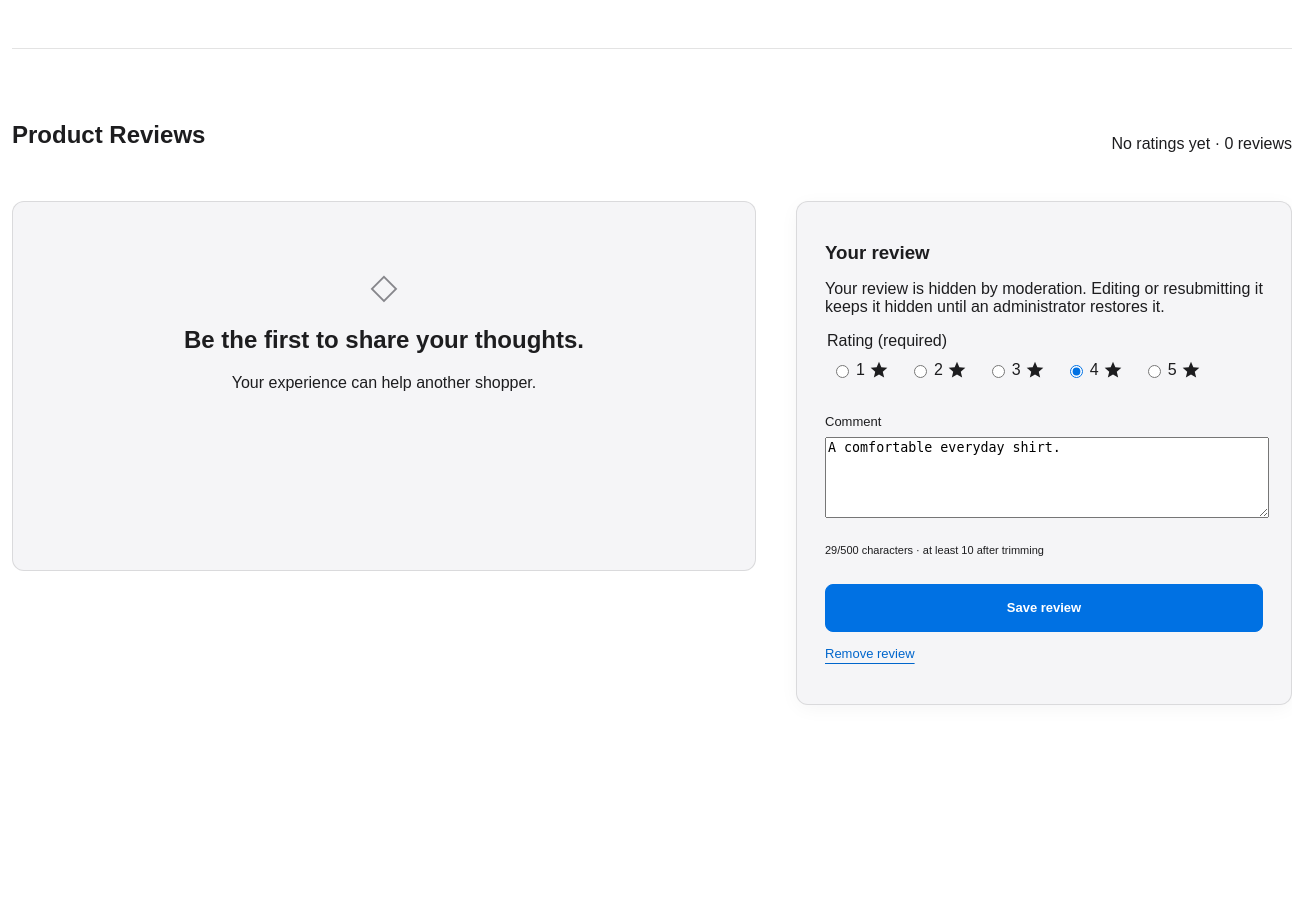
hidden own reviews explain moderation and a failed save preserves the entered comment
Replace the text in the text box labelled "Comment" with "Keep this draft after a failure." at coordinates (1047, 477), box [825,437,1269,518]
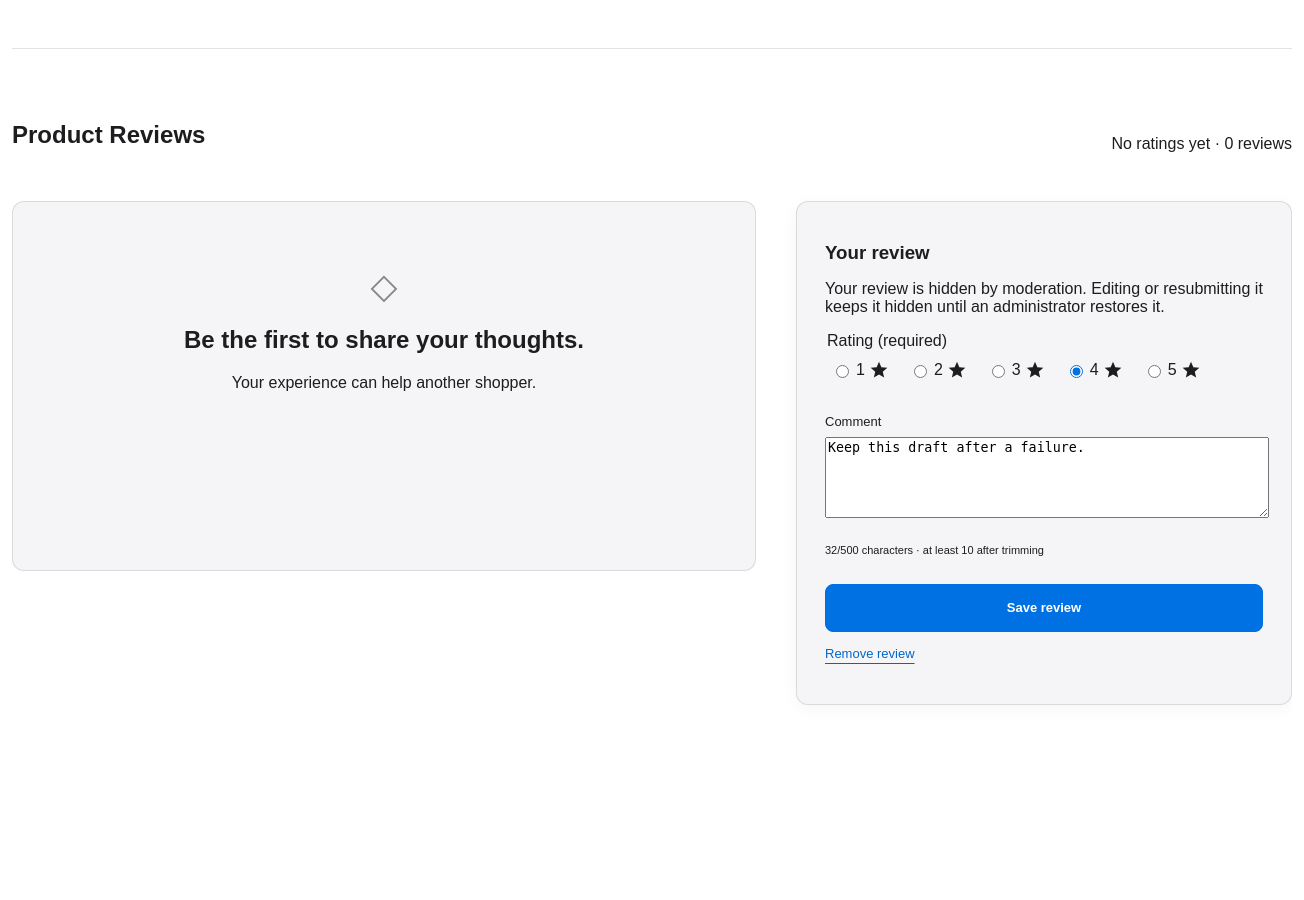
Click the button "Save review" at coordinates (1044, 608), box [825,584,1263,632]
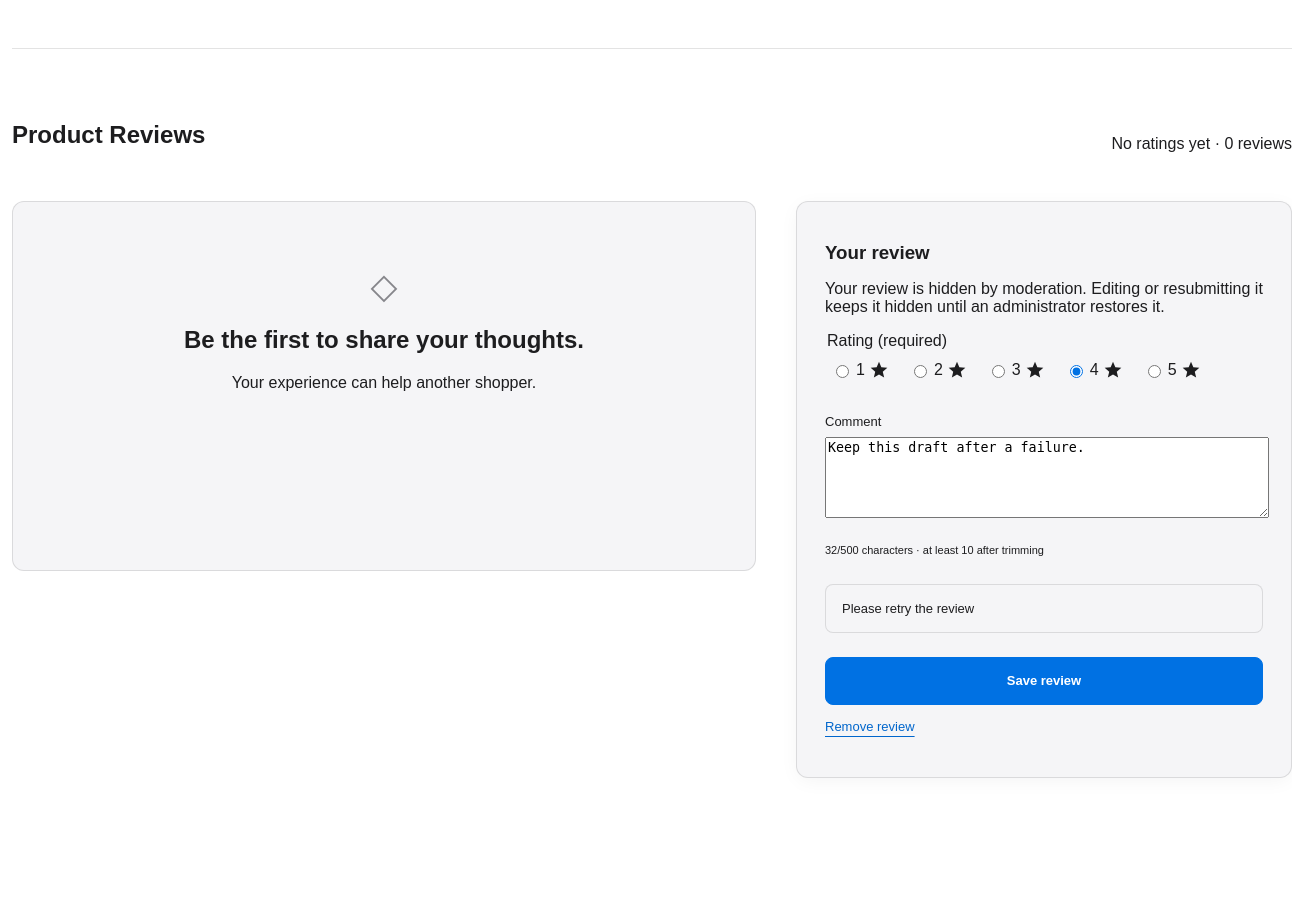
Now the text "Please retry the review" is shown, box [842,600,974,616]
